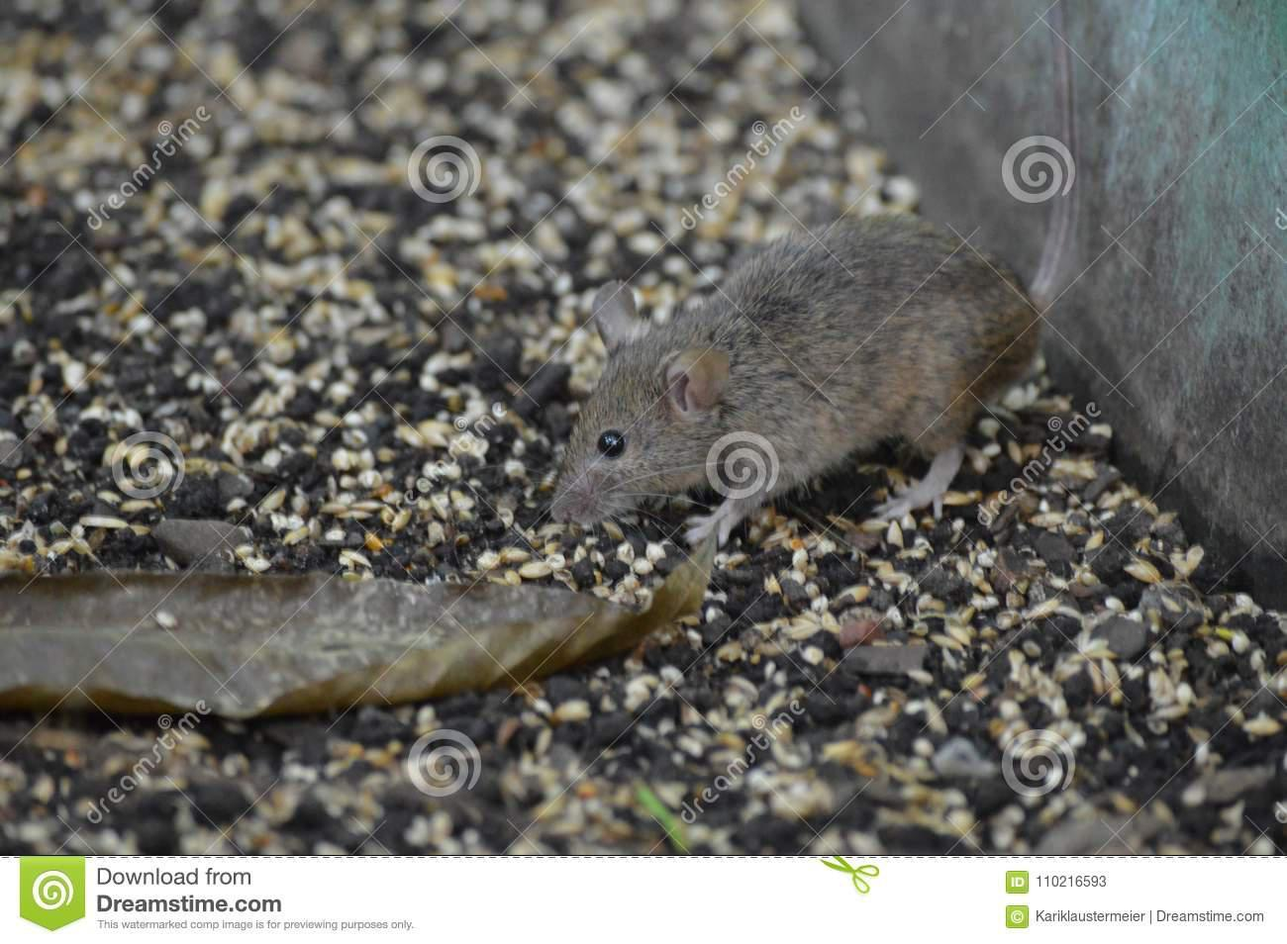rat: (549, 0, 1074, 543)
